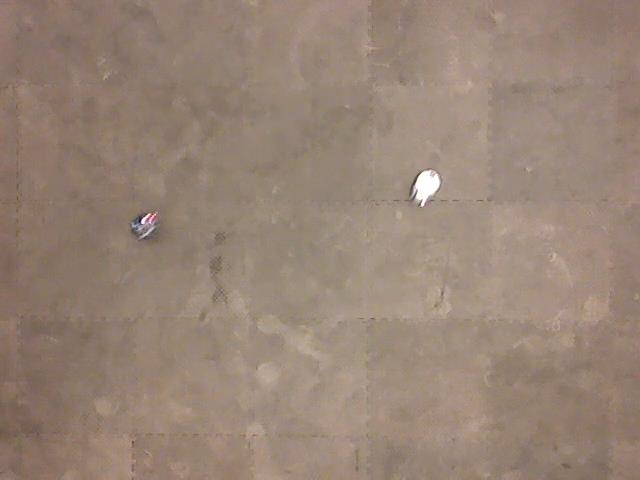Agent: (408, 167, 444, 207), (127, 210, 164, 240)
